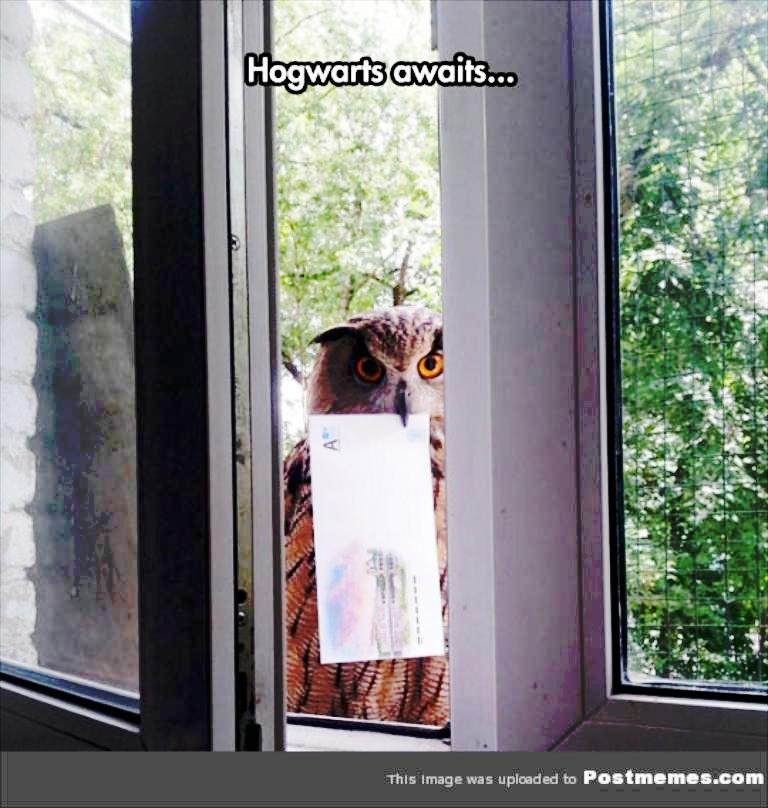Owl: (280, 303, 448, 730)
